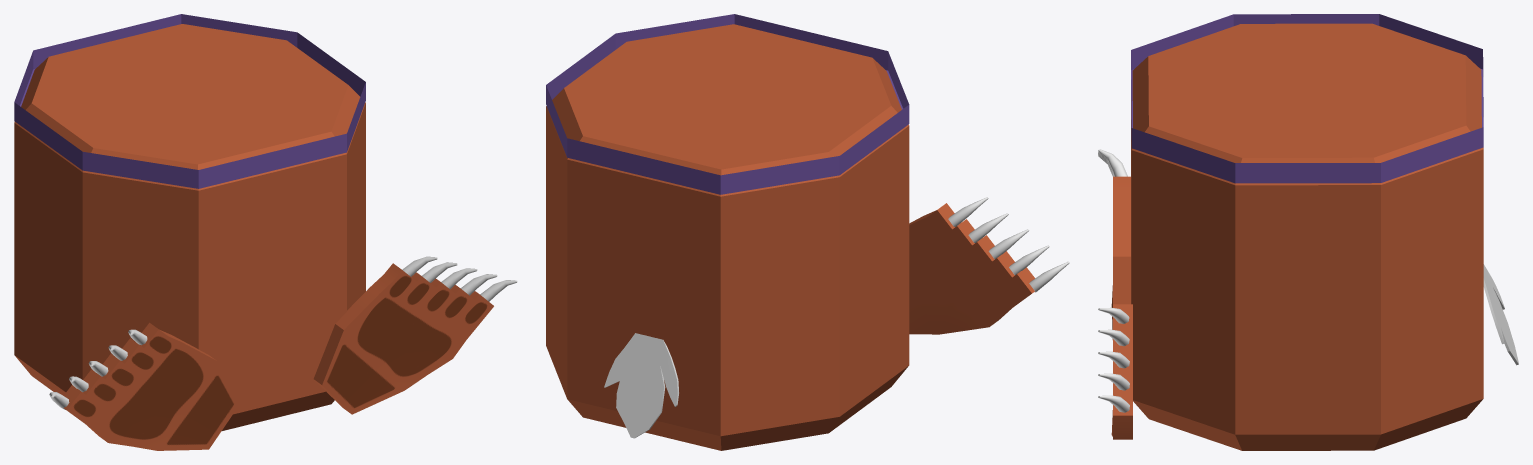
Rendered from abajo.fbx.
3 views of the same model, side by side, from view 1: azimuth 30°, elevation 25°; view 2: azimuth 150°, elevation 25°; view 3: azimuth 270°, elevation 25° (orthographic). The views are drawn at different scales.
Visible parts, largest first — view 1: Circle.008, Cube.006, Cube.011, Circle.011, Circle.012; view 2: Circle.008, Circle.011, Cube.011, Cube.007, Circle.012; view 3: Circle.008, Circle.011, Cube.011, Cube.006, Circle.012, Cube.007.
Boxes of the visible parts, x1,y1,x2,y2 form: Circle.008: (14, 24, 365, 430); Cube.006: (313, 263, 493, 414); Cube.011: (63, 322, 238, 450); Circle.011: (14, 14, 365, 188); Circle.012: (49, 256, 517, 409); Circle.008: (546, 24, 909, 450); Circle.011: (546, 14, 909, 194); Cube.011: (909, 203, 1034, 334); Cube.007: (604, 333, 678, 438); Circle.012: (948, 197, 1069, 292); Circle.008: (1131, 23, 1483, 450); Circle.011: (1131, 14, 1483, 183); Cube.011: (1111, 176, 1130, 339); Cube.006: (1111, 304, 1132, 439); Circle.012: (1098, 149, 1129, 412); Cube.007: (1483, 264, 1518, 365).
Size of the model in its own units: 424 by 239 by 309.
